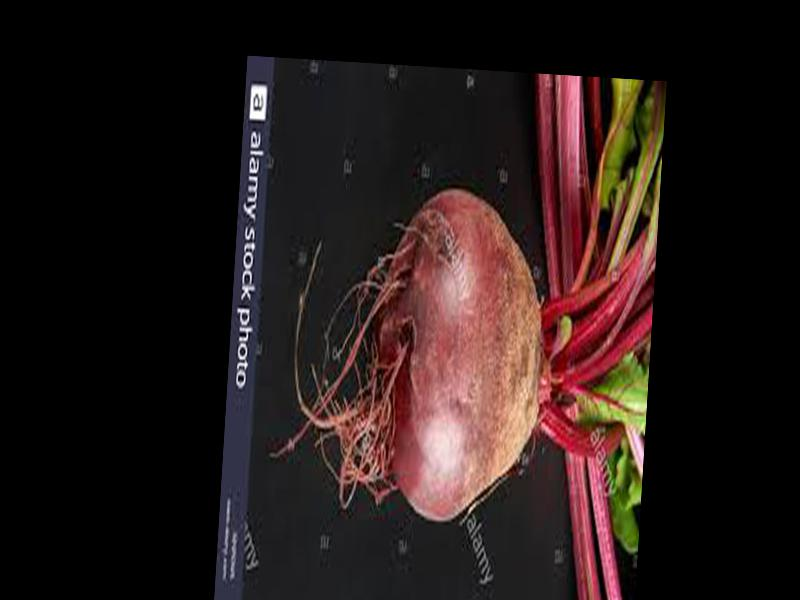Beet: (267, 62, 664, 536)
